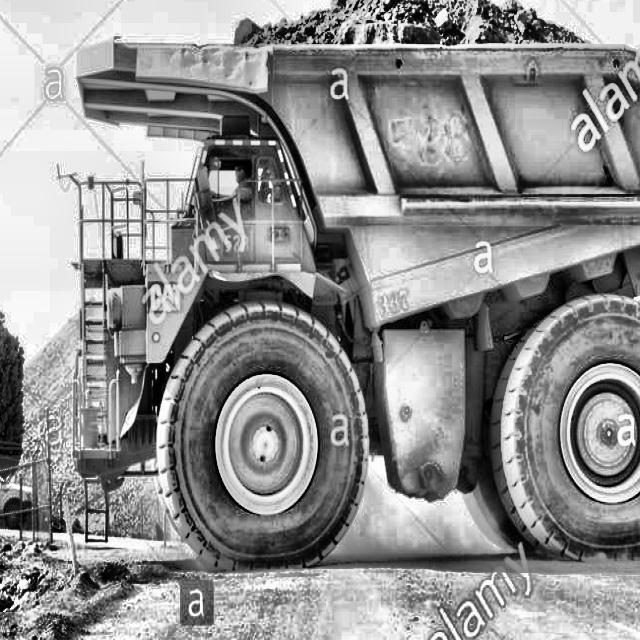dump_truck: (49, 0, 640, 609)
